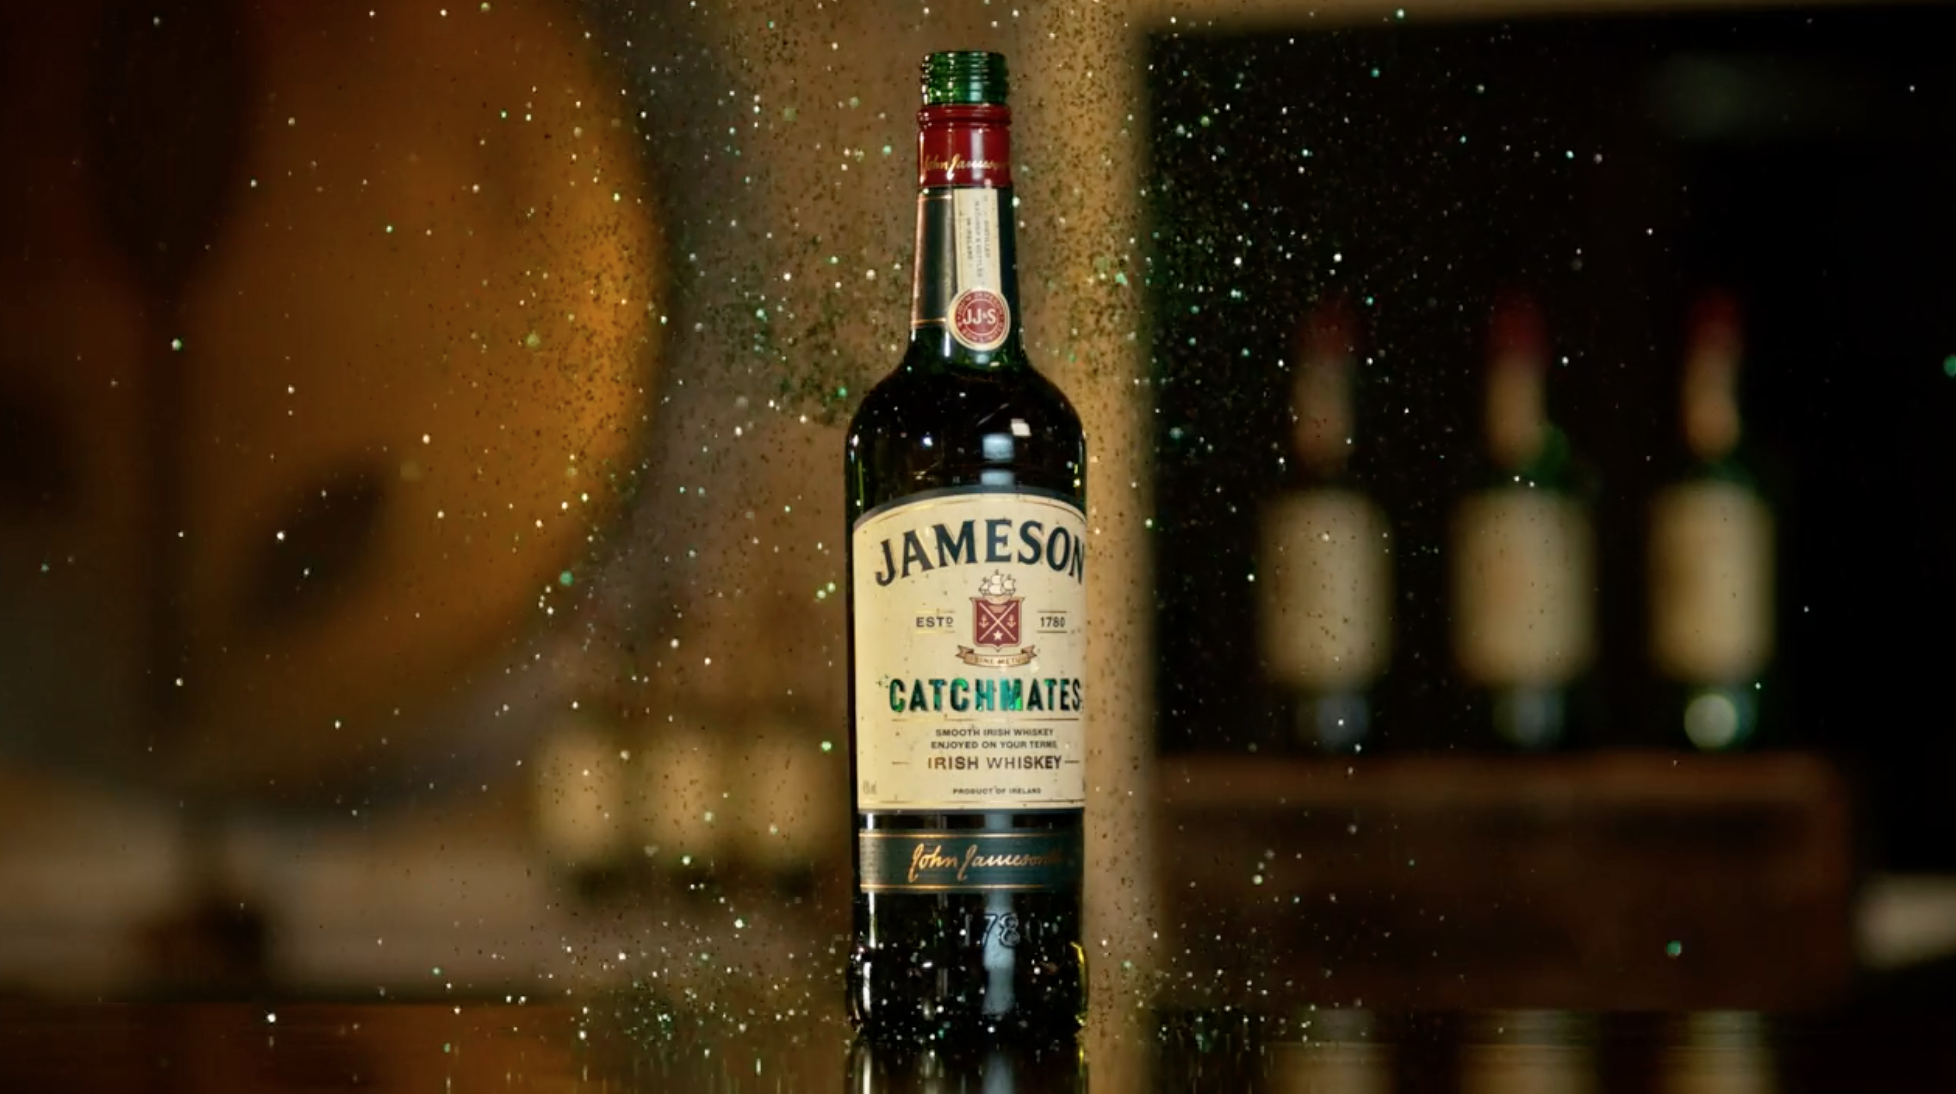Jameson: (830, 40, 1100, 1060)
